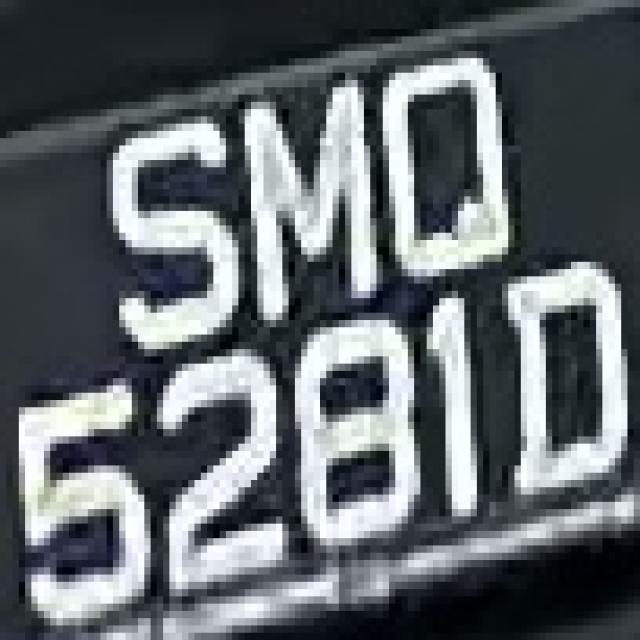1: (426, 269, 496, 553)
2: (138, 371, 307, 596)
5: (6, 356, 151, 640)
8: (276, 312, 427, 552)
D: (477, 247, 627, 509)
M: (220, 73, 395, 327)
Q: (370, 51, 527, 291)
S: (100, 94, 238, 342)
